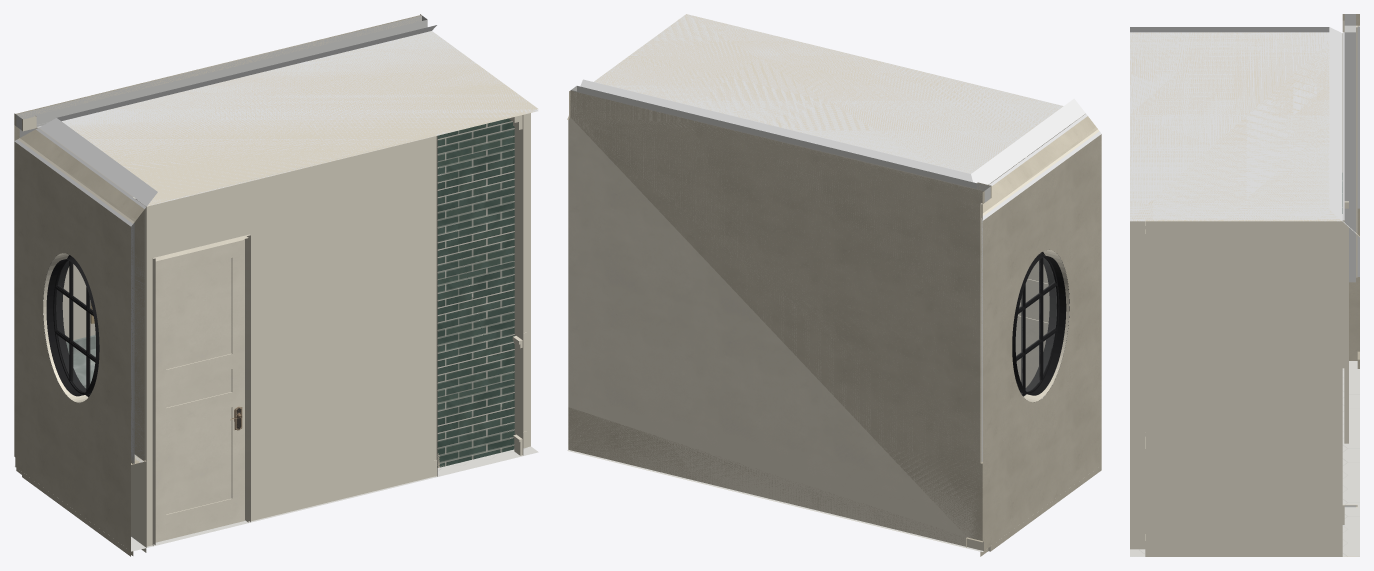
The model's file is green-bath-e53caec17fc9.glb.
3 renders of one model, left to right at view 1: azimuth 30°, elevation 25°; view 2: azimuth 150°, elevation 25°; view 3: azimuth 270°, elevation 25°, orthographic. The views are drawn at different scales.
Parts seen in each view (by area): view 1: green-bath-b6ab44e8ab2b63f4, green-bath-e8793759323e04f0, green-bath-9d91b47435c6fb33, green-bath-235bf0030923b7b8, green-bath-5e646f76b0244fe8, green-bath-312b4ac1be39223d, green-bath-33ee0b466567e5f0, green-bath-9a6873bb27e0e1d8, green-bath-8d8280a2b3ef8b4c, green-bath-ab9cb37e14e8bf16, green-bath-3a4d9d62ecd7be1c, green-bath-39b94aca90fa4b53 (+7 smaller); view 2: green-bath-bd62734a7bc60eb7, green-bath-ca9c0b57f88e5741, green-bath-9d91b47435c6fb33, green-bath-e8793759323e04f0, green-bath-312b4ac1be39223d, green-bath-33ee0b466567e5f0, green-bath-ab9cb37e14e8bf16, green-bath-9a6873bb27e0e1d8, green-bath-af51553f3bbf098a, green-bath-39b94aca90fa4b53, green-bath-5e646f76b0244fe8, green-bath-80d7956de169033e (+1 smaller); view 3: green-bath-4fe5579be934d30a, green-bath-9d91b47435c6fb33, green-bath-e8793759323e04f0, green-bath-689020e0fc226264, green-bath-6ffca0ecbe7bb20f, green-bath-39b94aca90fa4b53, green-bath-7261ca91c9d343ad, green-bath-9a6873bb27e0e1d8, green-bath-82fe871d7bda5383, green-bath-312b4ac1be39223d, green-bath-6852ef8a5e690845, green-bath-bd62734a7bc60eb7 (+1 smaller).
Boxes of the visible parts, bbox=[...] form: green-bath-b6ab44e8ab2b63f4: bbox=[138, 136, 437, 547]; green-bath-e8793759323e04f0: bbox=[42, 25, 537, 204]; green-bath-9d91b47435c6fb33: bbox=[39, 31, 537, 206]; green-bath-235bf0030923b7b8: bbox=[437, 118, 513, 467]; green-bath-5e646f76b0244fe8: bbox=[155, 239, 244, 542]; green-bath-312b4ac1be39223d: bbox=[14, 125, 133, 464]; green-bath-33ee0b466567e5f0: bbox=[22, 386, 146, 556]; green-bath-9a6873bb27e0e1d8: bbox=[16, 15, 427, 471]; green-bath-8d8280a2b3ef8b4c: bbox=[515, 109, 538, 455]; green-bath-ab9cb37e14e8bf16: bbox=[43, 254, 99, 397]; green-bath-3a4d9d62ecd7be1c: bbox=[35, 127, 146, 461]; green-bath-39b94aca90fa4b53: bbox=[19, 128, 144, 463]; green-bath-bd62734a7bc60eb7: bbox=[567, 91, 983, 547]; green-bath-ca9c0b57f88e5741: bbox=[568, 90, 984, 550]; green-bath-9d91b47435c6fb33: bbox=[594, 14, 1085, 184]; green-bath-e8793759323e04f0: bbox=[580, 14, 1083, 183]; green-bath-312b4ac1be39223d: bbox=[981, 131, 1101, 463]; green-bath-33ee0b466567e5f0: bbox=[988, 377, 1101, 551]; green-bath-ab9cb37e14e8bf16: bbox=[1012, 252, 1069, 397]; green-bath-9a6873bb27e0e1d8: bbox=[571, 86, 990, 550]; green-bath-af51553f3bbf098a: bbox=[1016, 253, 1056, 393]; green-bath-39b94aca90fa4b53: bbox=[982, 116, 1097, 213]; green-bath-5e646f76b0244fe8: bbox=[988, 163, 1049, 387]; green-bath-80d7956de169033e: bbox=[1012, 249, 1069, 402]; green-bath-4fe5579be934d30a: bbox=[1145, 214, 1342, 556]; green-bath-9d91b47435c6fb33: bbox=[1130, 32, 1342, 221]; green-bath-e8793759323e04f0: bbox=[1130, 27, 1340, 219]; green-bath-689020e0fc226264: bbox=[1130, 221, 1145, 549]; green-bath-6ffca0ecbe7bb20f: bbox=[1130, 361, 1359, 556]; green-bath-39b94aca90fa4b53: bbox=[1344, 28, 1355, 282]; green-bath-7261ca91c9d343ad: bbox=[1344, 201, 1348, 443]; green-bath-9a6873bb27e0e1d8: bbox=[1344, 14, 1355, 556]; green-bath-82fe871d7bda5383: bbox=[1342, 14, 1344, 556]; green-bath-312b4ac1be39223d: bbox=[1357, 26, 1359, 276]; green-bath-6852ef8a5e690845: bbox=[1356, 27, 1357, 277]; green-bath-bd62734a7bc60eb7: bbox=[1357, 14, 1359, 368].
Bounding box in the file's own units: 3.62 × 3.04 × 1.8.
33 materials, 6 textured.
